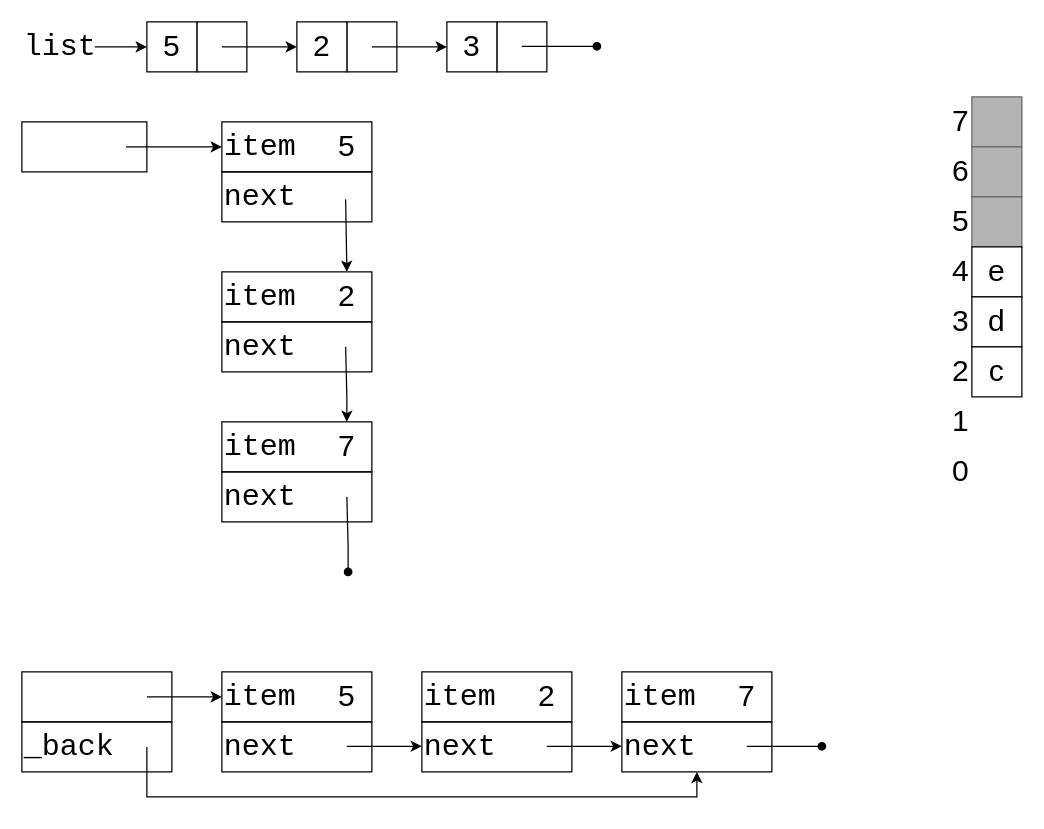
This 1044x829 diagram has some shape labels left out. The shapes that lost their labels are listed below. From the top down, each one's centre as x and y in pixels, then its label:
At (x=84, y=146): "_top".
At (x=96, y=696): "_front".
